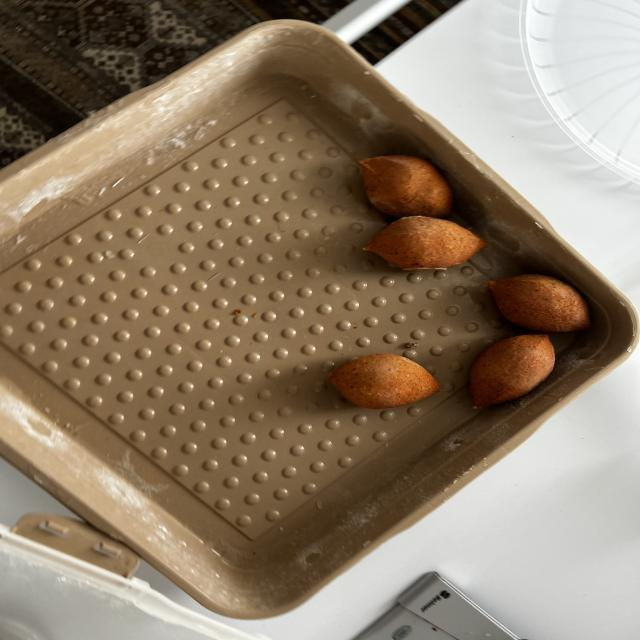kobi: (484, 274, 612, 332), (360, 217, 496, 270), (467, 335, 558, 409), (356, 154, 454, 217), (331, 354, 438, 407)
